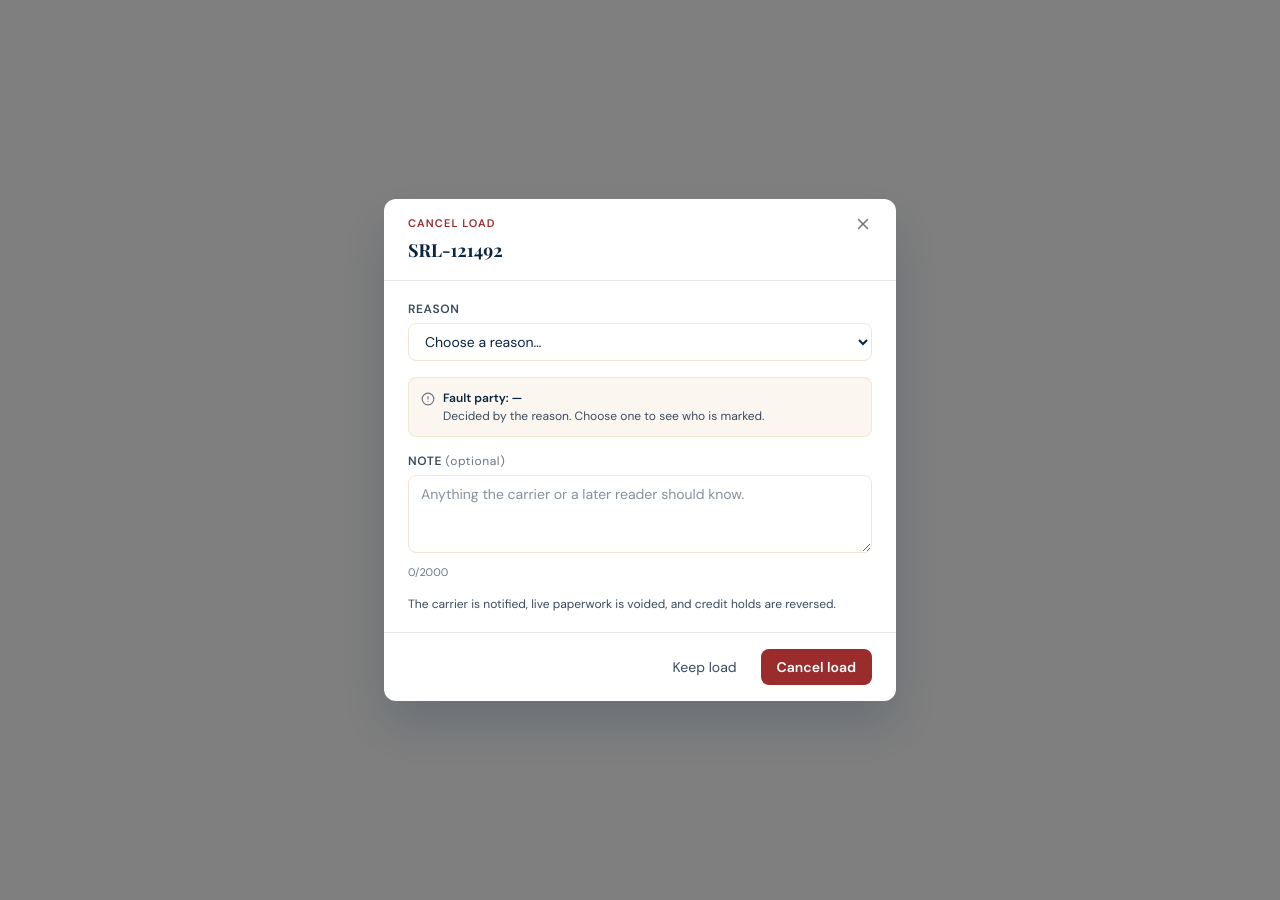
Test case: CancelLoadModal — a refusal is shown, not swallowed › stays open and prints the server's 400 details naming the field
Select "SHIPPER_CANCELLED" in the dropdown labelled "Reason". click: (640,342)
box: [408,322,872,360]
Click the button "Cancel load". click: (816,667)
box: [760,649,872,685]
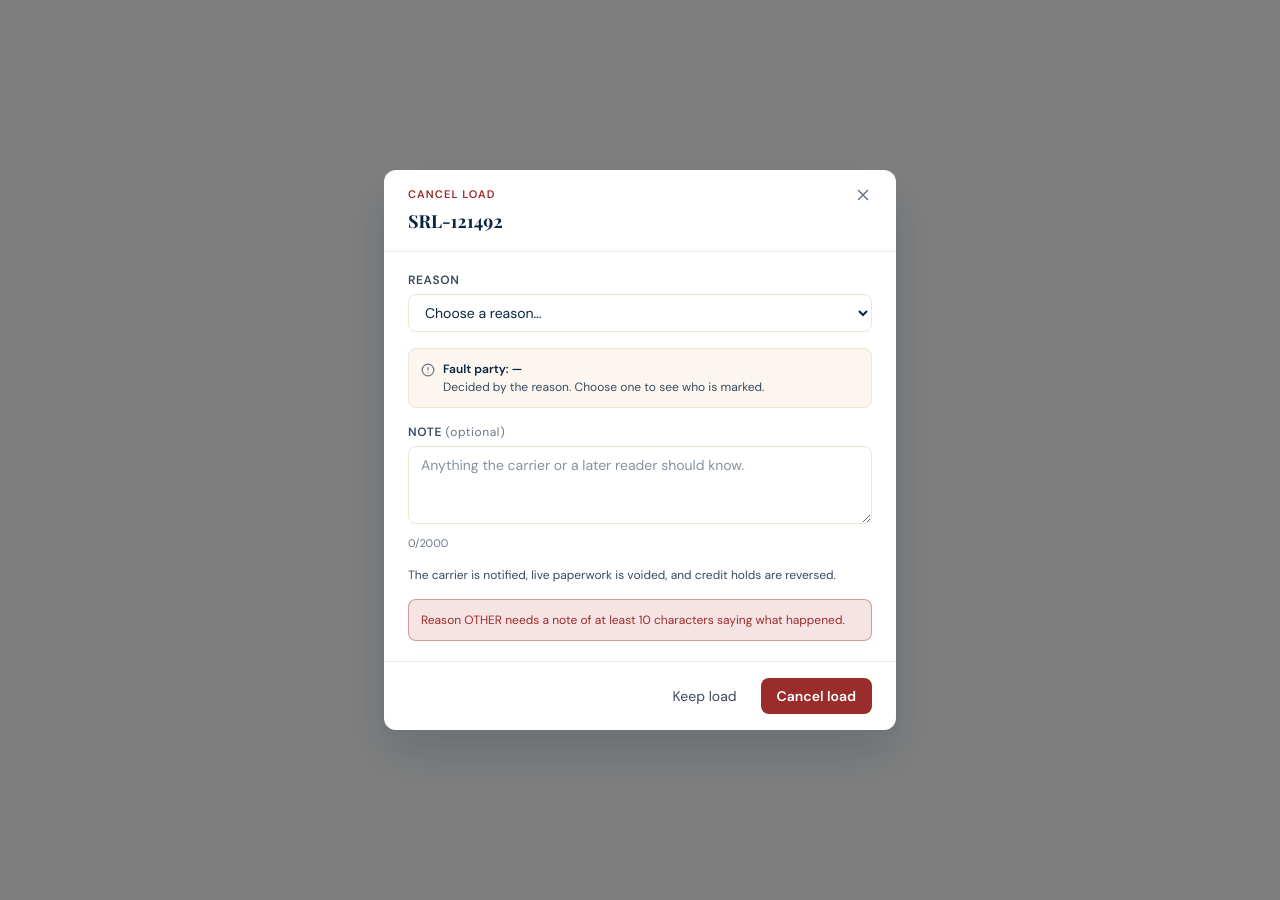
Check: the button "Cancel load" is enabled, box [760,678,872,714]
Check: the message shows "needs a note of at least 10 characters", box [421,612,845,628]
